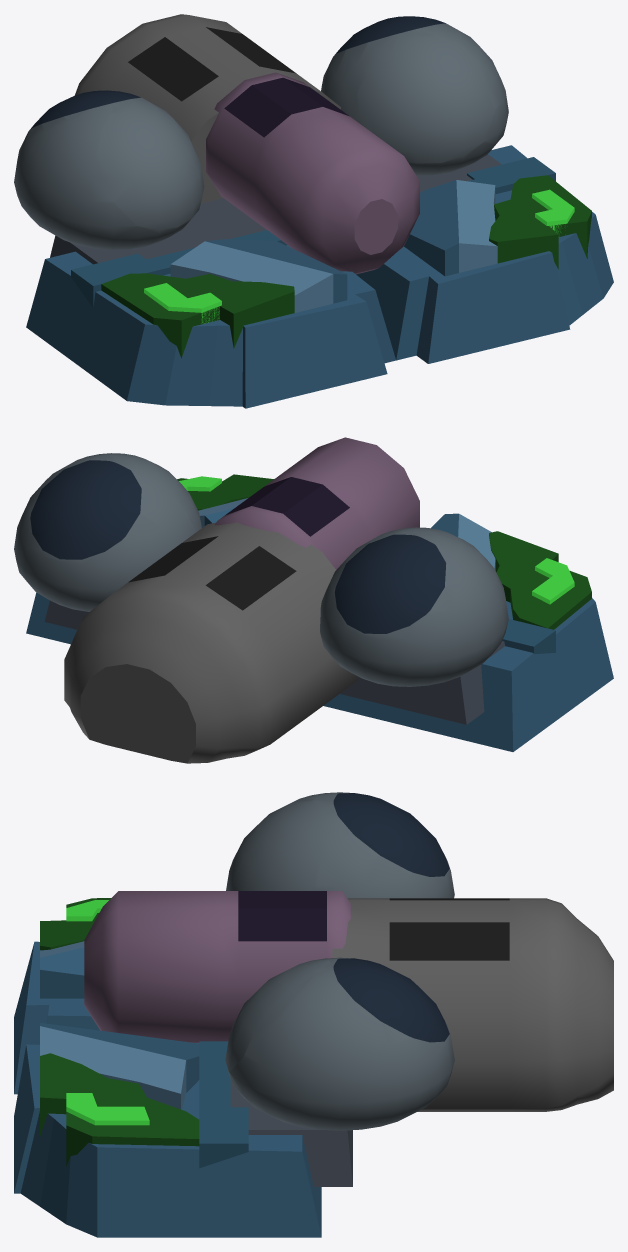
The model's file is newshc-191.glb.
3 views of the same model, one above another, from view 1: azimuth 30°, elevation 25°; view 2: azimuth 150°, elevation 25°; view 3: azimuth 270°, elevation 25° (orthographic). The views are drawn at different scales.
Visible parts, largest first — view 1: newshc-191; view 2: newshc-191; view 3: newshc-191.
Boxes of the visible parts, bbox=[...] form: newshc-191: bbox=[14, 14, 613, 408]; newshc-191: bbox=[14, 437, 613, 763]; newshc-191: bbox=[14, 792, 613, 1237].
Bounding box in the file's own units: 2 × 0.7792 × 1.92.
